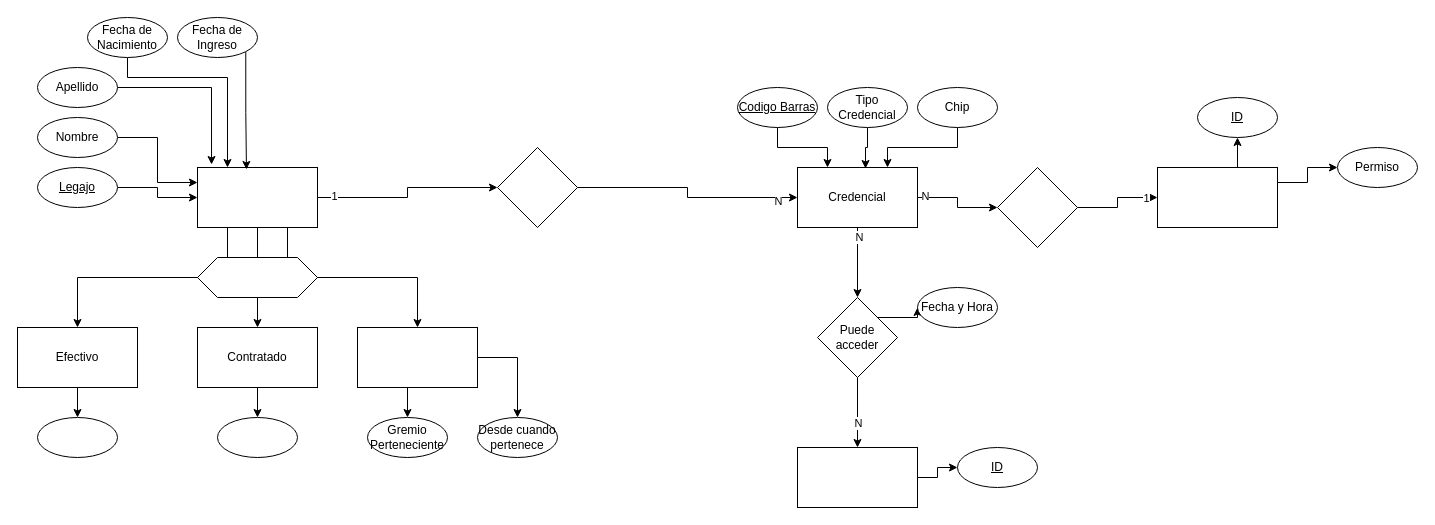
Image size: 1435x525. Some labels were removed from this diagram. The shapes that lost their labels are listed below. From the top down, each one's box as (x1, y1, x2, y2) in pixels, then its label:
(196, 166, 318, 228): Empleado
(496, 146, 578, 228): Posee
(996, 166, 1078, 248): Pedir
(1156, 166, 1278, 228): Permiso Acceso
(196, 256, 318, 298): Tipo
(356, 326, 478, 388): Agremiado
(36, 416, 118, 458): Obra Sccial
(216, 416, 298, 458): Fecha Caducidad Contrato
(796, 446, 918, 508): Puerta
